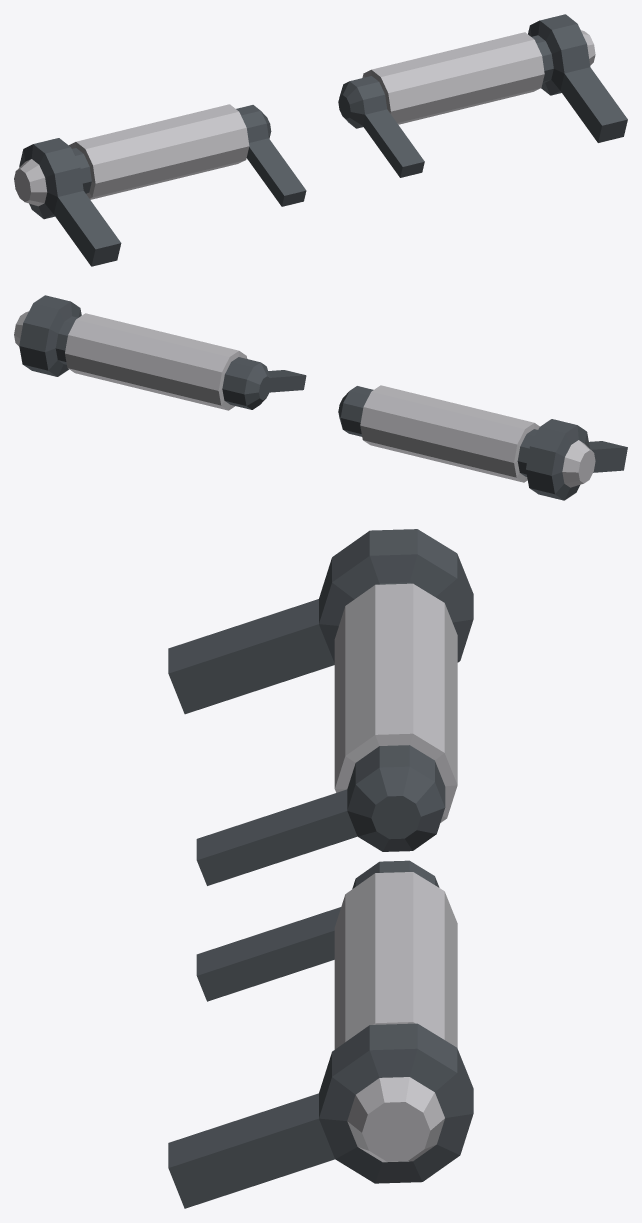
File: Personal_Vehicle_01_Handlebars.fbx
The picture shows the model from 3 angles, top to bottom: view 1: azimuth 30°, elevation 25°; view 2: azimuth 150°, elevation 25°; view 3: azimuth 270°, elevation 25°; orthographic projection. The views are drawn at different scales.
Parts seen in each view (by area): view 1: Personal_Vehicle_01_Handlebars; view 2: Personal_Vehicle_01_Handlebars; view 3: Personal_Vehicle_01_Handlebars.
Part boxes in pixels (box(x1,y1,x2,y2)): Personal_Vehicle_01_Handlebars: box(14, 14, 627, 266); Personal_Vehicle_01_Handlebars: box(14, 295, 627, 500); Personal_Vehicle_01_Handlebars: box(168, 529, 473, 1208).
Size of the model in its own units: 78.64 by 10.66 by 18.41.
1 material, 1 textured.
